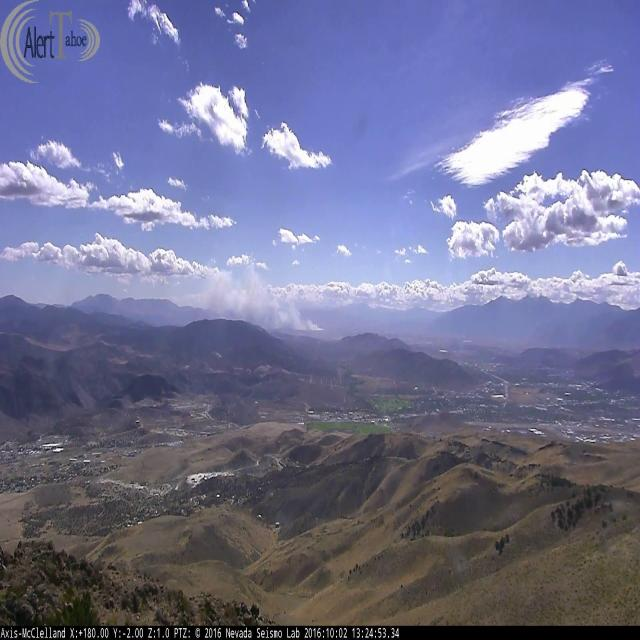smoke: (204, 266, 323, 331)
